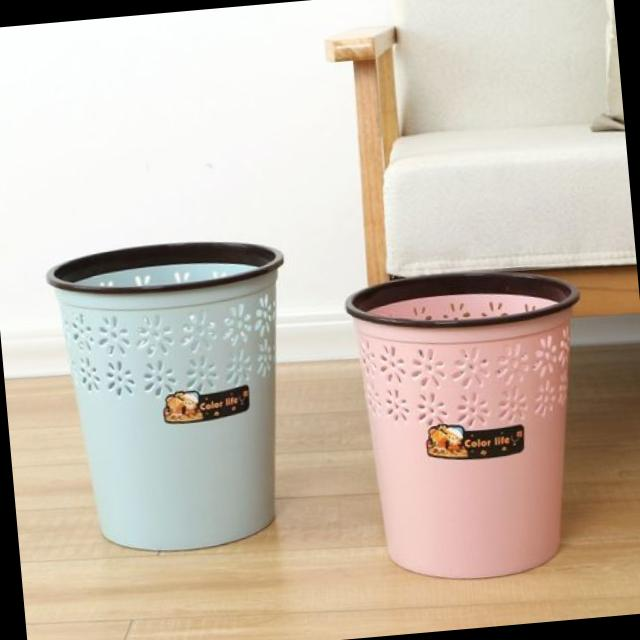dustbin: (334, 255, 607, 593), (41, 228, 311, 565)
